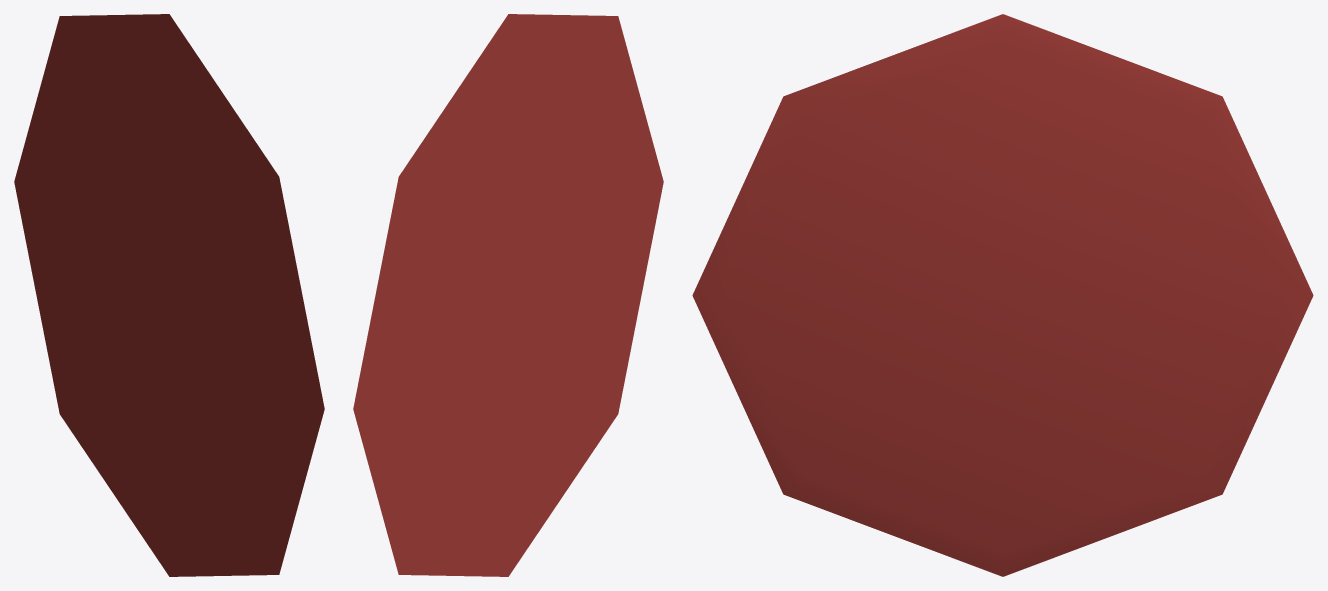
The model's file is round_lod2.glb.
3 renders of one model, left to right at view 1: azimuth 30°, elevation 25°; view 2: azimuth 150°, elevation 25°; view 3: azimuth 270°, elevation 25°, orthographic.
Visible parts, largest first — view 1: round_lod2; view 2: round_lod2; view 3: round_lod2.
Part boxes in pixels (x1,y1,x2,y2): round_lod2: (14, 14, 324, 576); round_lod2: (353, 14, 663, 576); round_lod2: (692, 14, 1313, 576).
Bounding box in the file's own units: 0.018 × 2 × 2.
